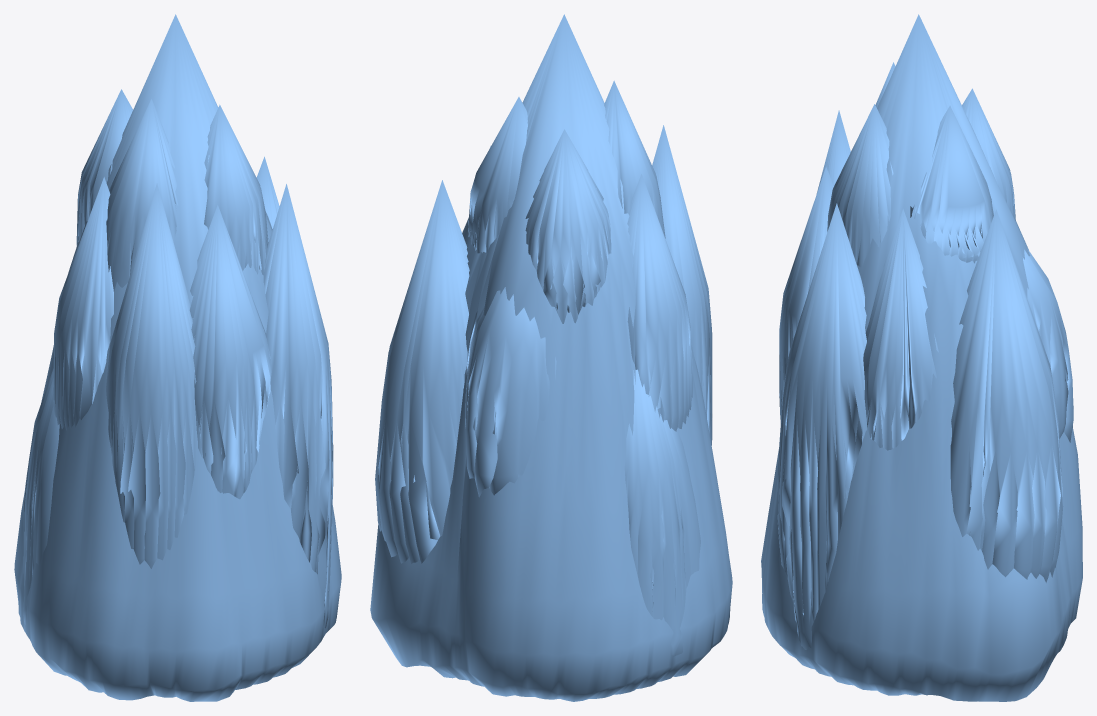
Rendered from Iceberg.fbx.
The picture shows the model from 3 angles, left to right: view 1: azimuth 30°, elevation 25°; view 2: azimuth 150°, elevation 25°; view 3: azimuth 270°, elevation 25°; orthographic projection.
Visible parts, largest first — view 1: Iceberg; view 2: Iceberg; view 3: Iceberg.
Part boxes in pixels (box(x1,y1,x2,y2)): Iceberg: box(14, 14, 341, 701); Iceberg: box(370, 14, 732, 701); Iceberg: box(761, 14, 1082, 701).
Bounding box in the file's own units: 341 × 704 × 325.
